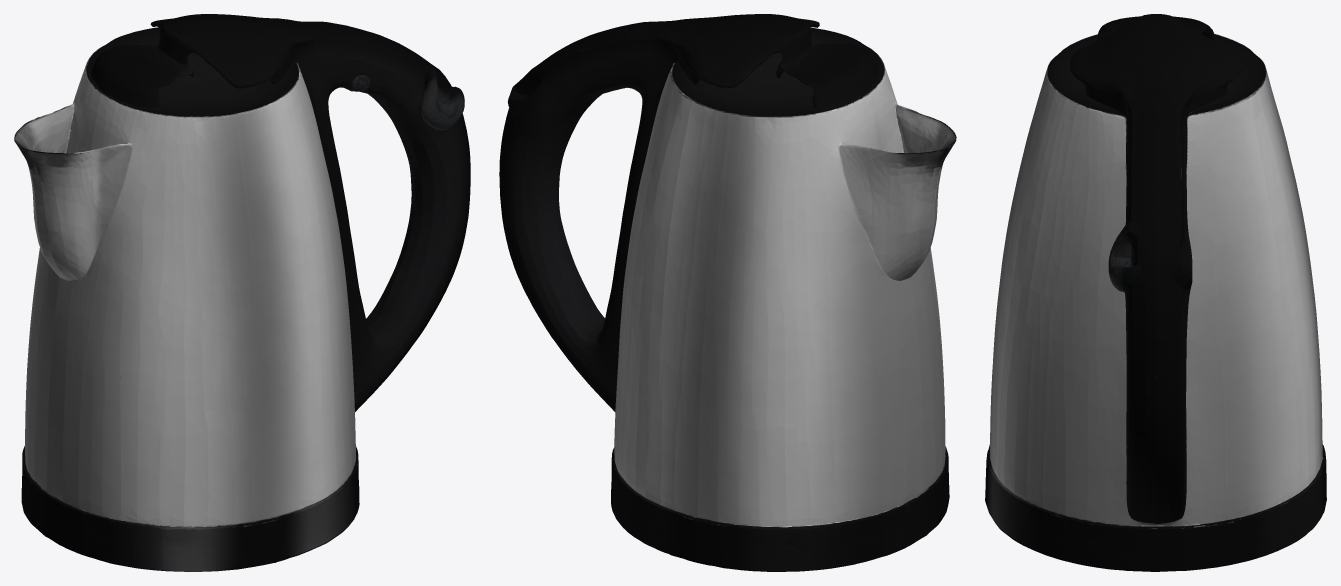
Rendered from kettle.glb.
The picture shows the model from 3 angles, left to right: view 1: azimuth 30°, elevation 25°; view 2: azimuth 150°, elevation 25°; view 3: azimuth 270°, elevation 25°; orthographic projection.
Visible parts, largest first — view 1: world; view 2: world; view 3: world.
Boxes of the visible parts, bbox=[...] form: world: bbox=[14, 14, 470, 571]; world: bbox=[499, 14, 956, 571]; world: bbox=[985, 14, 1326, 571].
Bounding box in the file's own units: 0.9896 × 1 × 0.651.
Materials: 1 (1 with a texture image).
